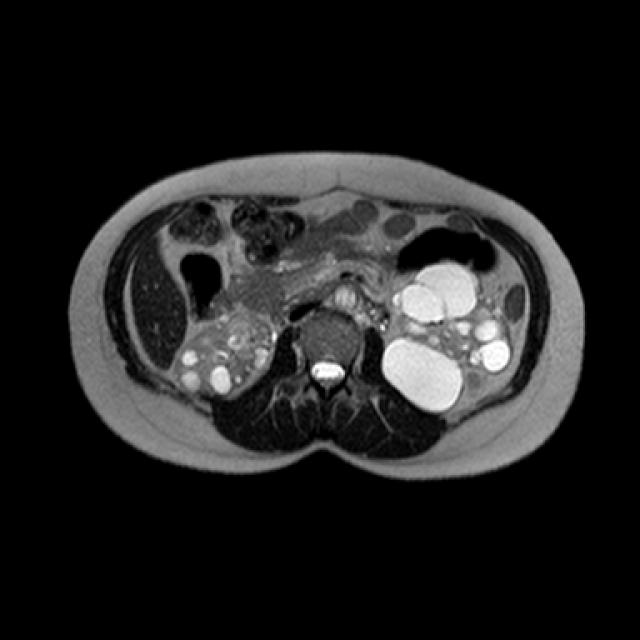sag: (168, 309, 278, 398)
sol: (381, 260, 514, 413)
